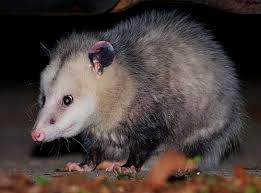opossum: (29, 12, 250, 173)
